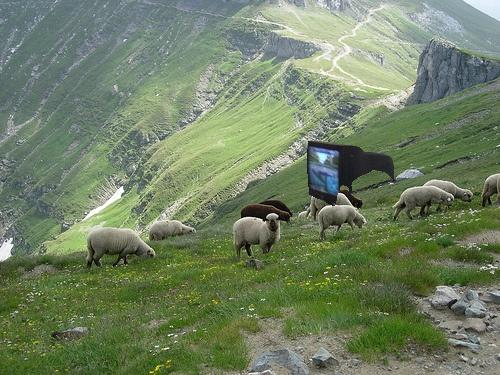tampered: (308, 142, 394, 206)
